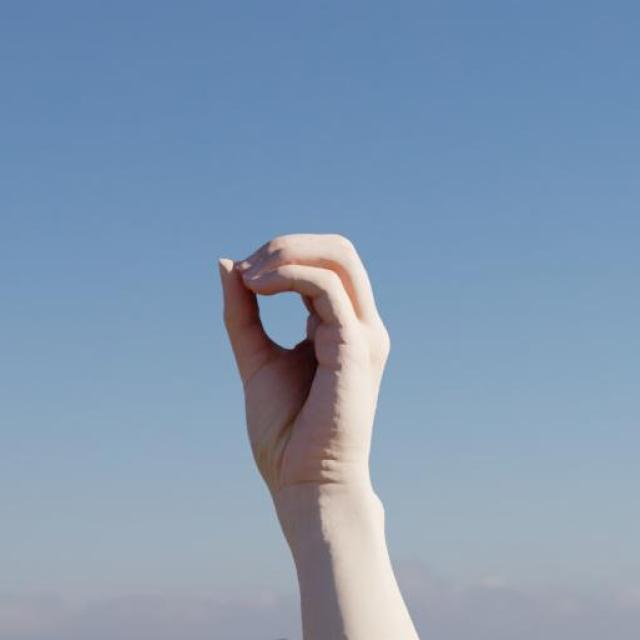O: (214, 230, 392, 500)
